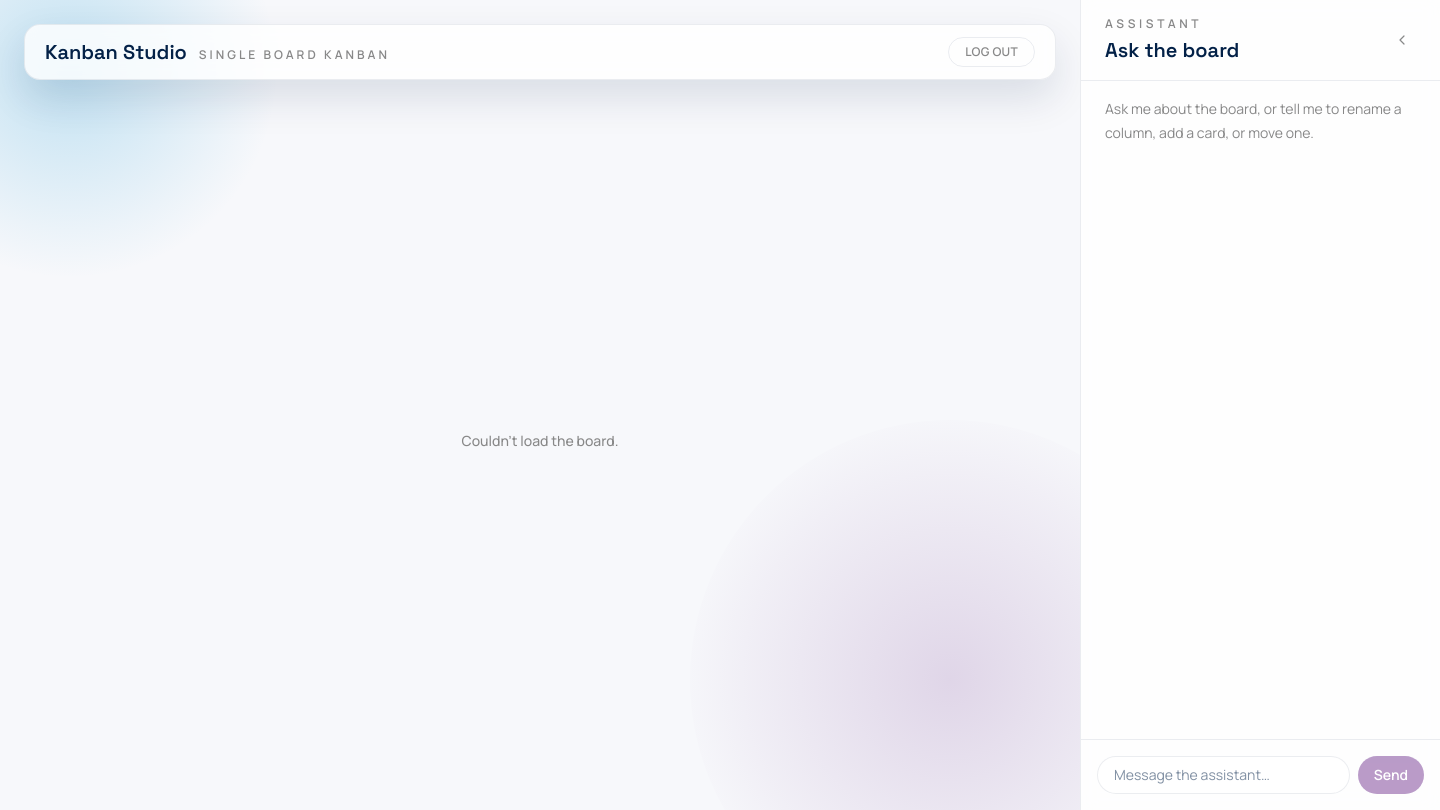
AppShell › logs out and returns to the login form
Click the button "Log out": [992, 52] box [948,37,1035,67]
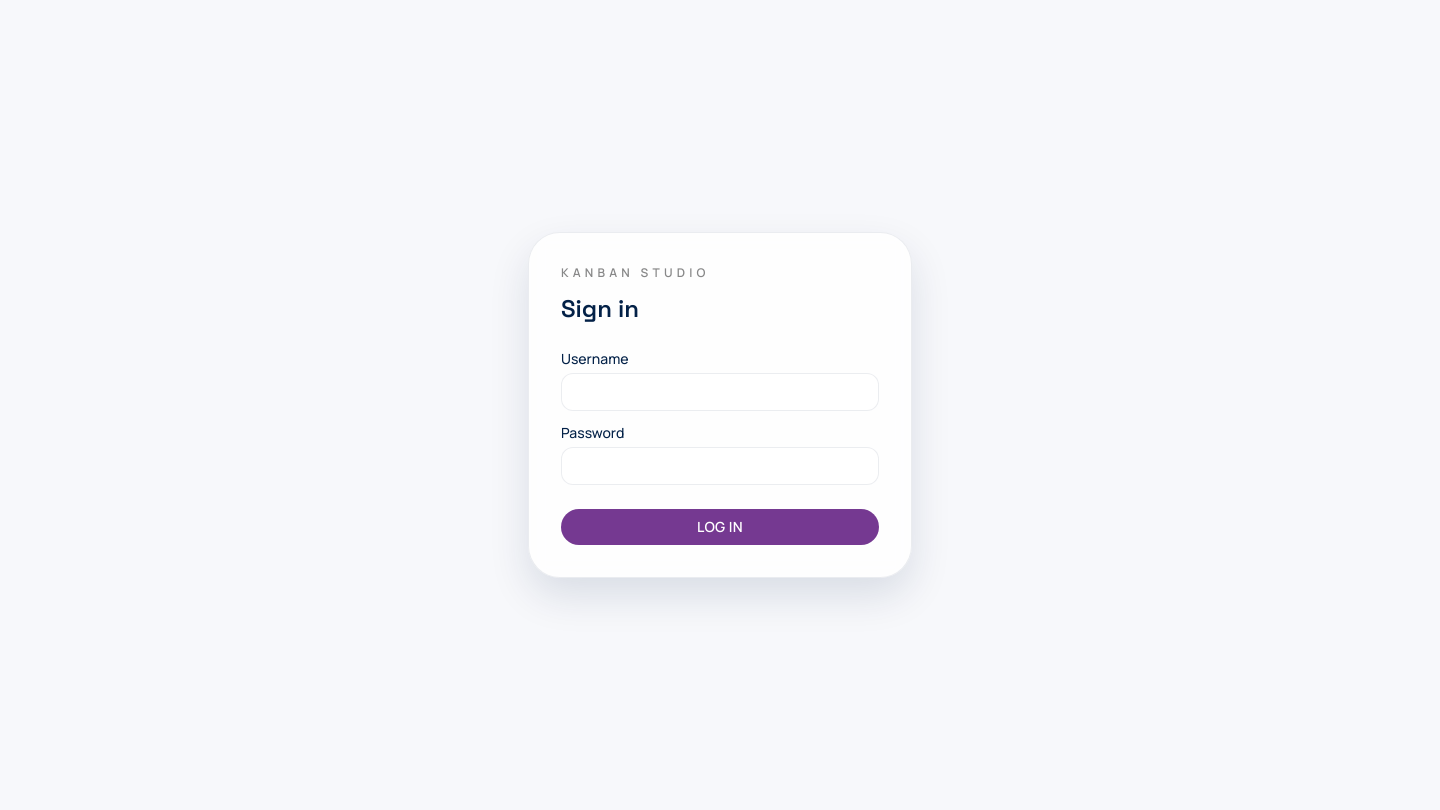
Now the heading "Sign in" is shown, box [561,293,639,324]
